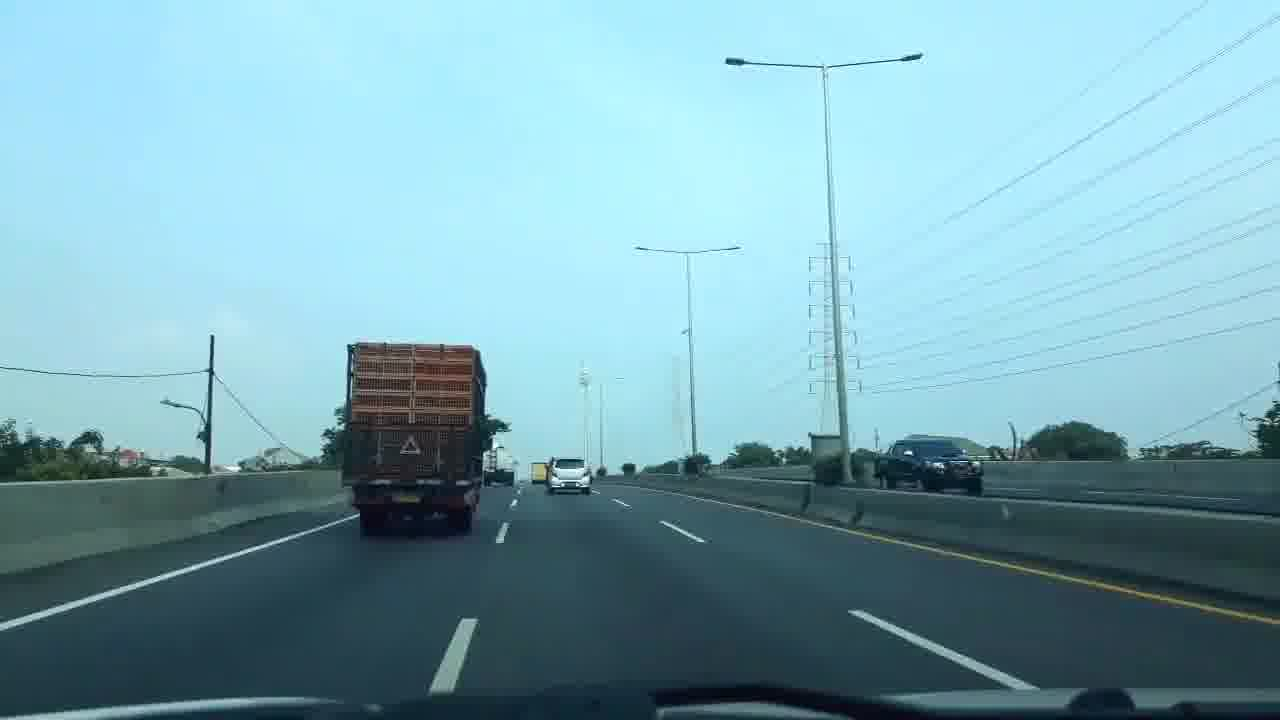plate_positive: (391, 496, 423, 504), (565, 482, 576, 487)
